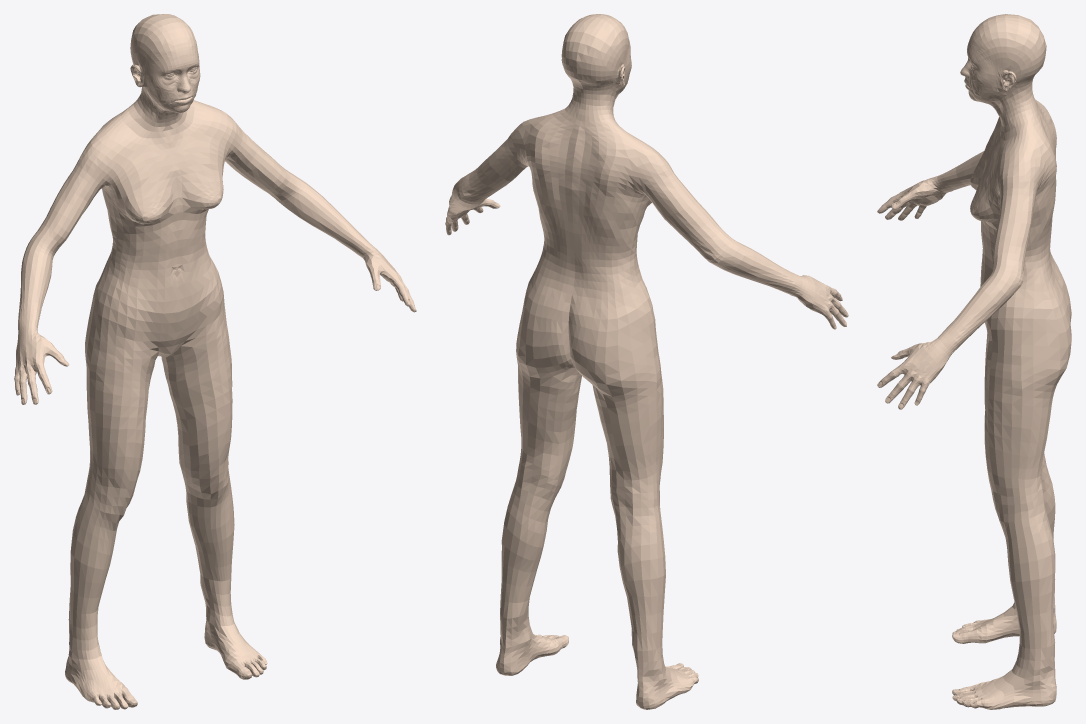
Rendered from female-older-fit-strong.glb.
3 renders of one model, left to right at view 1: azimuth 30°, elevation 25°; view 2: azimuth 150°, elevation 25°; view 3: azimuth 270°, elevation 25°, orthographic.
Visible parts, largest first — view 1: world; view 2: world; view 3: world.
Boxes of the visible parts, <box> form: world: <box>14,14,416,709</box>; world: <box>445,14,848,709</box>; world: <box>877,14,1071,709</box>.
Size of the model in its own units: 1.13 by 1.8 by 0.4864.
